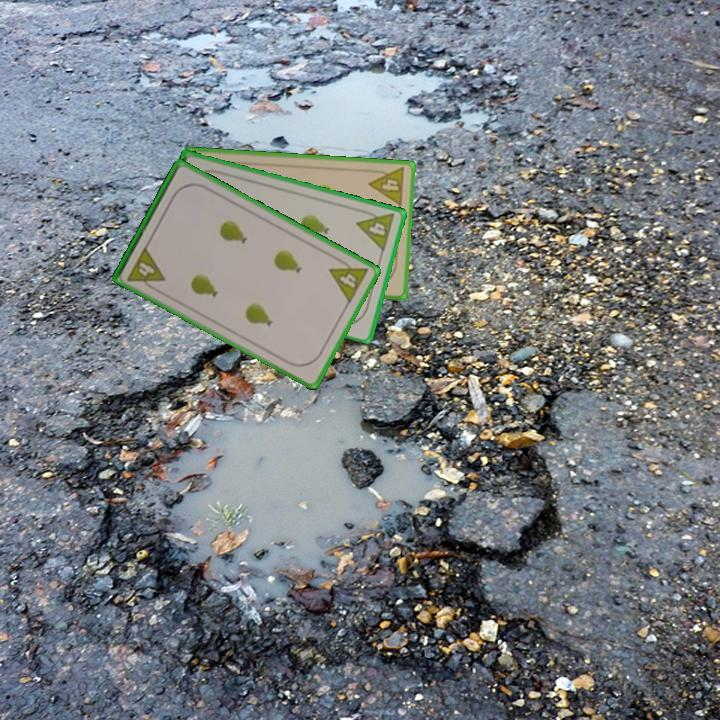4p: (326, 253, 371, 306), (124, 243, 168, 294), (353, 205, 398, 254), (366, 164, 408, 209)
